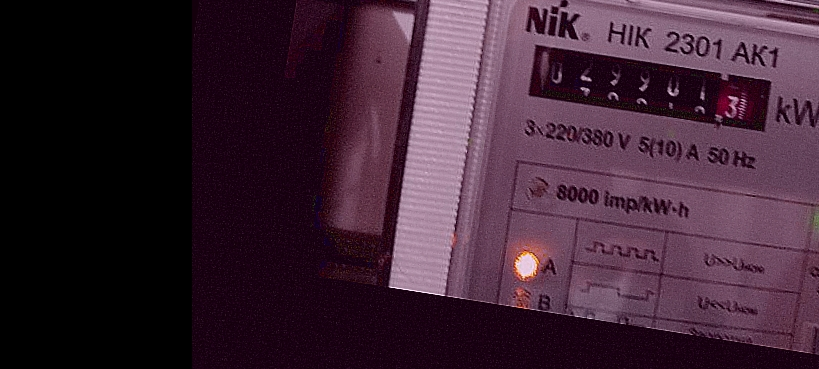0: (545, 56, 567, 86), (663, 69, 684, 100)
1: (694, 72, 712, 102)
2: (576, 55, 598, 84)
3: (721, 92, 742, 120)
9: (606, 59, 626, 89), (636, 65, 653, 94)
screen: (517, 32, 785, 144)
